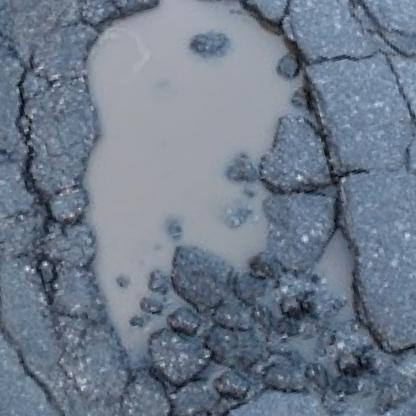pothole: (12, 0, 399, 416)
